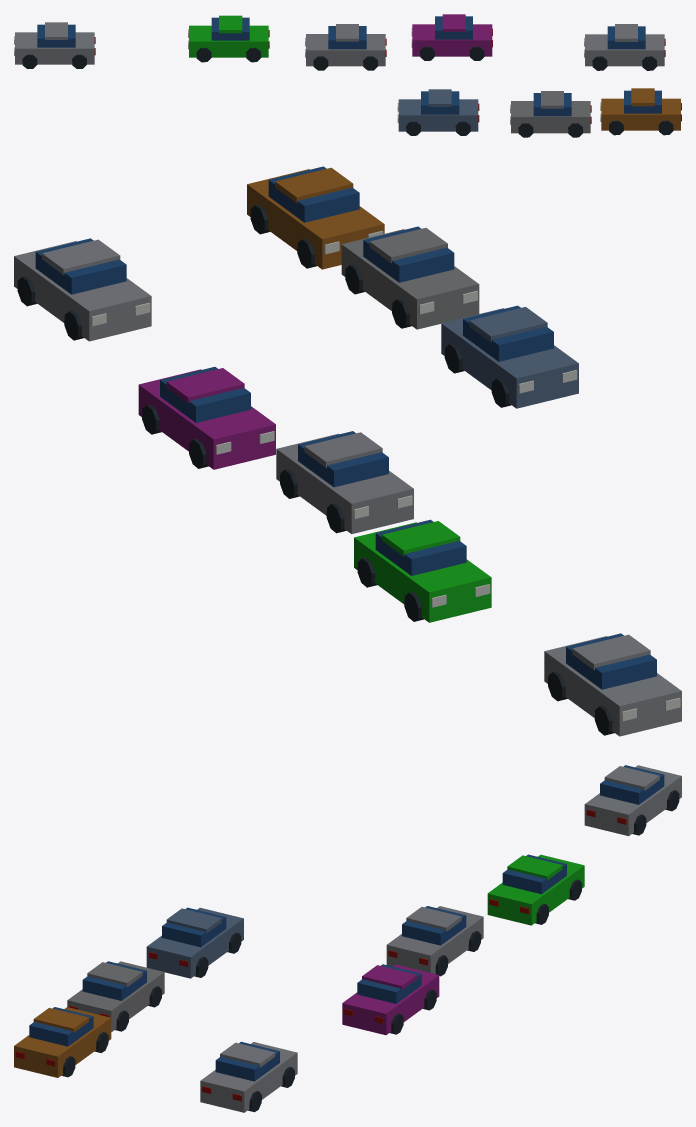
File: cars_7.glb
3 renders of one model, top to bottom at view 1: azimuth 30°, elevation 25°; view 2: azimuth 150°, elevation 25°; view 3: azimuth 270°, elevation 25°, orthographic. The views are drawn at different scales.
Visible parts, largest first — view 1: cars_7; view 2: cars_7; view 3: cars_7.
Part boxes in pixels (x1,y1,x2,y2): cars_7: (14,14,681,137); cars_7: (14,166,681,736); cars_7: (14,765,681,1112).
Bounding box in the file's own units: 52.28 × 3.04 × 45.23.
